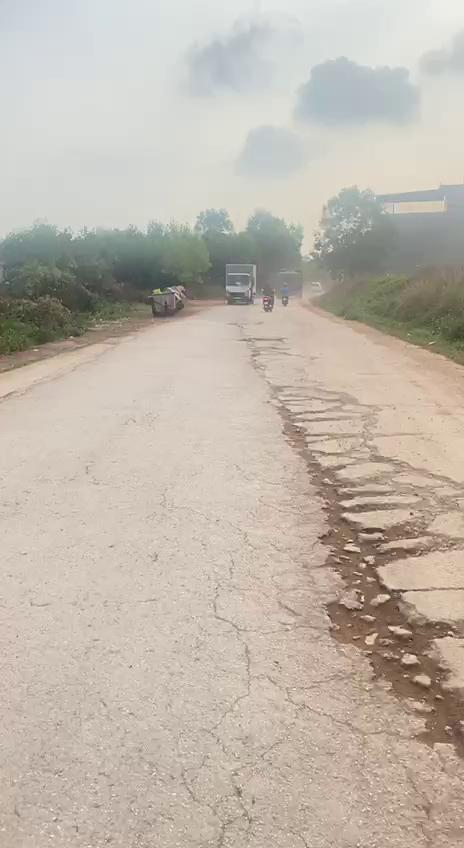pothole: (311, 572, 464, 758), (277, 417, 464, 567)
